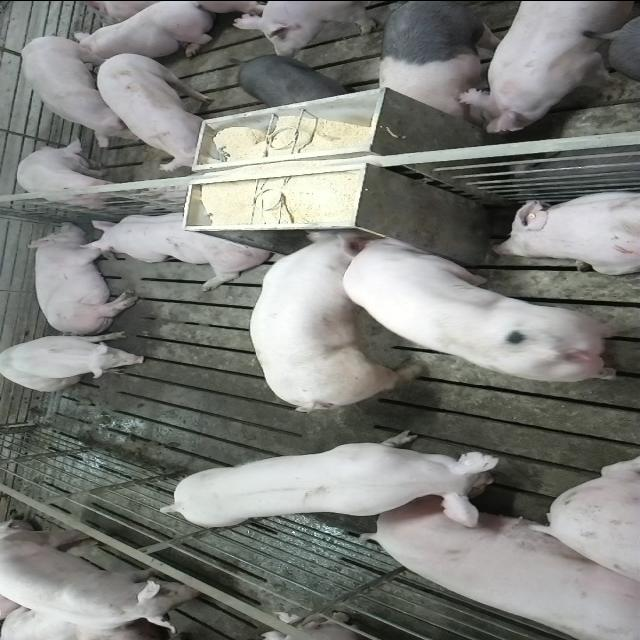Feeding: (334, 231, 622, 383), (248, 220, 427, 404)
Lateral_lying: (22, 222, 140, 336)
Sitting: (0, 330, 148, 390)
Standing: (154, 429, 514, 529), (453, 2, 637, 136), (0, 525, 213, 640), (380, 1, 520, 122), (93, 50, 221, 170), (21, 32, 141, 144), (228, 0, 389, 54), (14, 133, 130, 204), (238, 52, 346, 108)
Sternal_lying: (81, 208, 275, 288), (492, 186, 640, 272), (72, 2, 220, 58)
